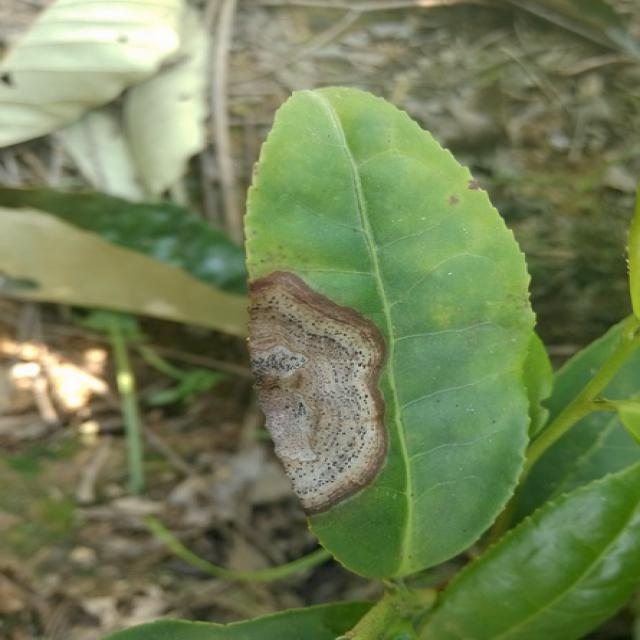Tea cloud leaf blight: (246, 270, 398, 520)
